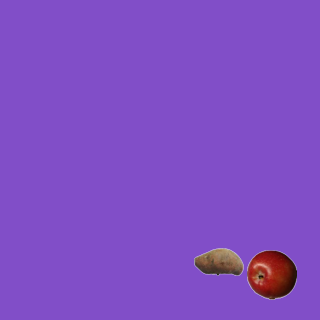Apple Braeburn: (246, 249, 296, 299)
Potato Sweet: (193, 236, 243, 286)
